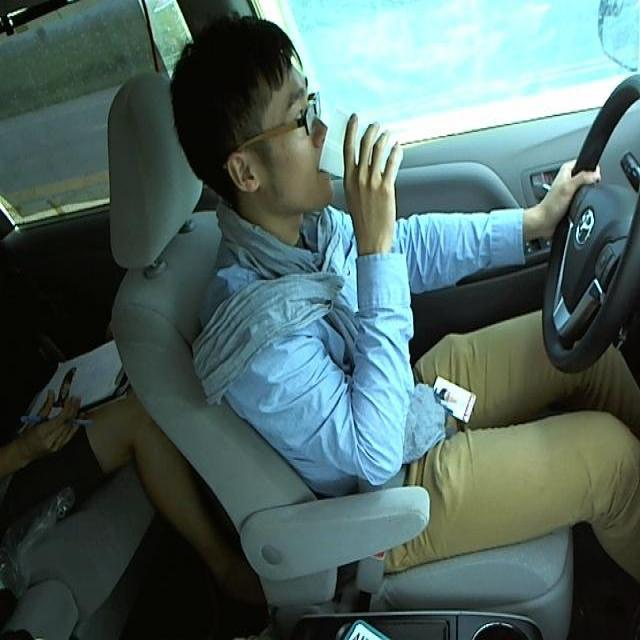drinking: (318, 106, 402, 196)
